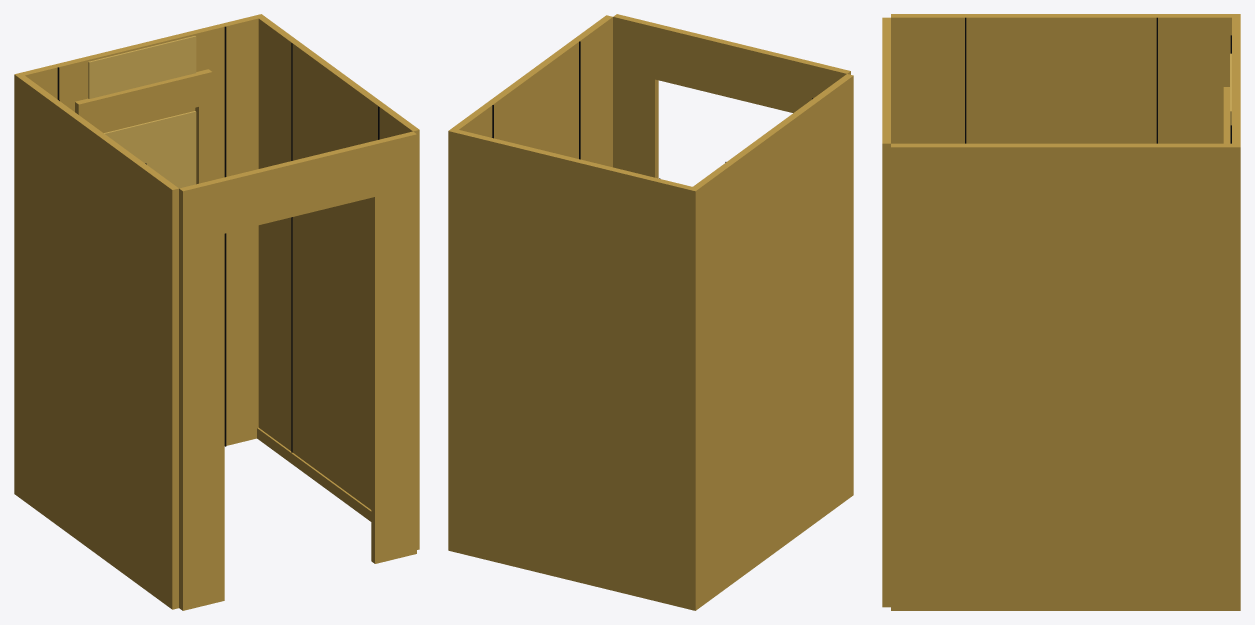
Rendered from wall_gold.glb.
3 renders of one model, left to right at view 1: azimuth 30°, elevation 25°; view 2: azimuth 150°, elevation 25°; view 3: azimuth 270°, elevation 25°, orthographic. The views are drawn at different scales.
Parts seen in each view (by area): view 1: Wall_Left, Wall_Right, Wall_Back, Front_Return_L, Front_Return_R, Front_Header, Back_Header, Back_Mirror_Top, Back_Recess, Skirting_R, Back_Post_R, Back_Seam_R (+1 smaller); view 2: Wall_Back, Wall_Left, Wall_Right, Front_Header, Front_Return_R, Front_Return_L; view 3: Wall_Right, Wall_Left, Wall_Back, Front_Return_R, Front_Header.
Part boxes in pixels (left/top/right/bottom): Wall_Left: left=18, top=75, right=178, bottom=609; Wall_Right: left=258, top=17, right=419, bottom=549; Wall_Back: left=14, top=14, right=264, bottom=496; Front_Return_L: left=179, top=178, right=224, bottom=610; Front_Return_R: left=371, top=131, right=416, bottom=563; Front_Header: left=221, top=141, right=374, bottom=233; Back_Header: left=75, top=69, right=212, bottom=130; Back_Mirror_Top: left=88, top=36, right=196, bottom=98; Back_Recess: left=104, top=111, right=196, bottom=188; Skirting_R: left=257, top=427, right=371, bottom=521; Back_Post_R: left=195, top=103, right=212, bottom=184; Back_Seam_R: left=224, top=26, right=226, bottom=446; Wall_Back: left=448, top=128, right=699, bottom=610; Wall_Left: left=693, top=74, right=853, bottom=607; Wall_Right: left=452, top=15, right=612, bottom=167; Front_Header: left=655, top=24, right=808, bottom=112; Front_Return_R: left=613, top=14, right=658, bottom=178; Front_Return_L: left=805, top=61, right=850, bottom=103; Wall_Right: left=891, top=143, right=1231, bottom=610; Wall_Left: left=891, top=14, right=1231, bottom=143; Wall_Back: left=1232, top=14, right=1240, bottom=610; Front_Return_R: left=882, top=121, right=890, bottom=607; Front_Header: left=882, top=40, right=890, bottom=121.
Size of the model in its own units: 1.48 by 2.4 by 1.68.
